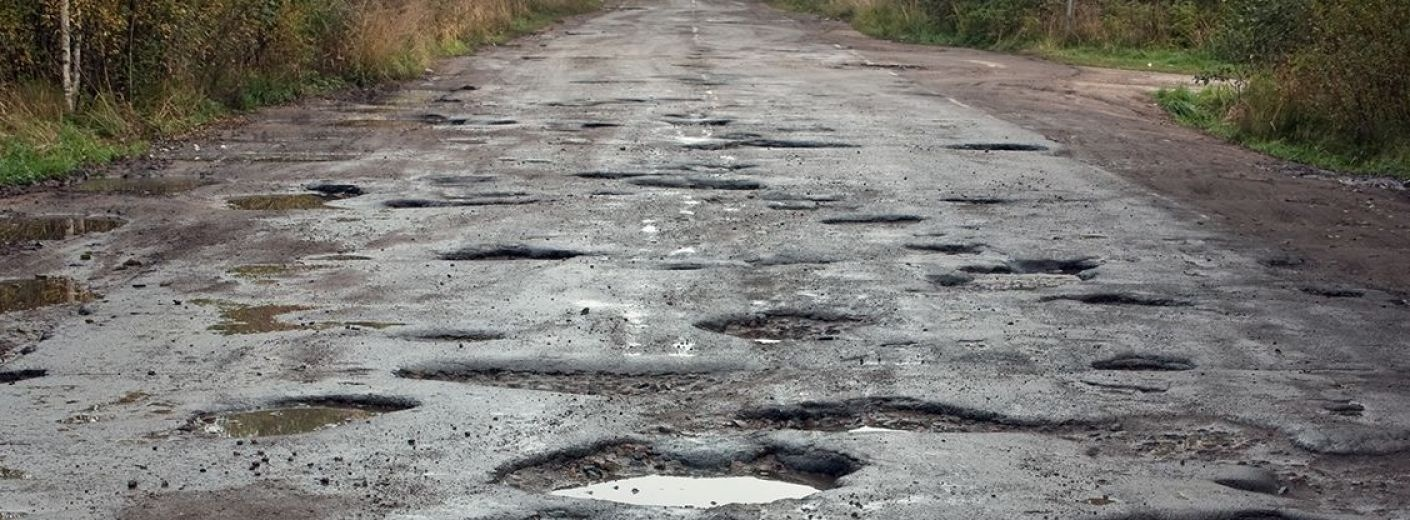pothole: (734, 265, 1128, 456), (114, 314, 462, 461), (448, 265, 789, 405), (476, 414, 910, 513), (86, 155, 462, 237)
